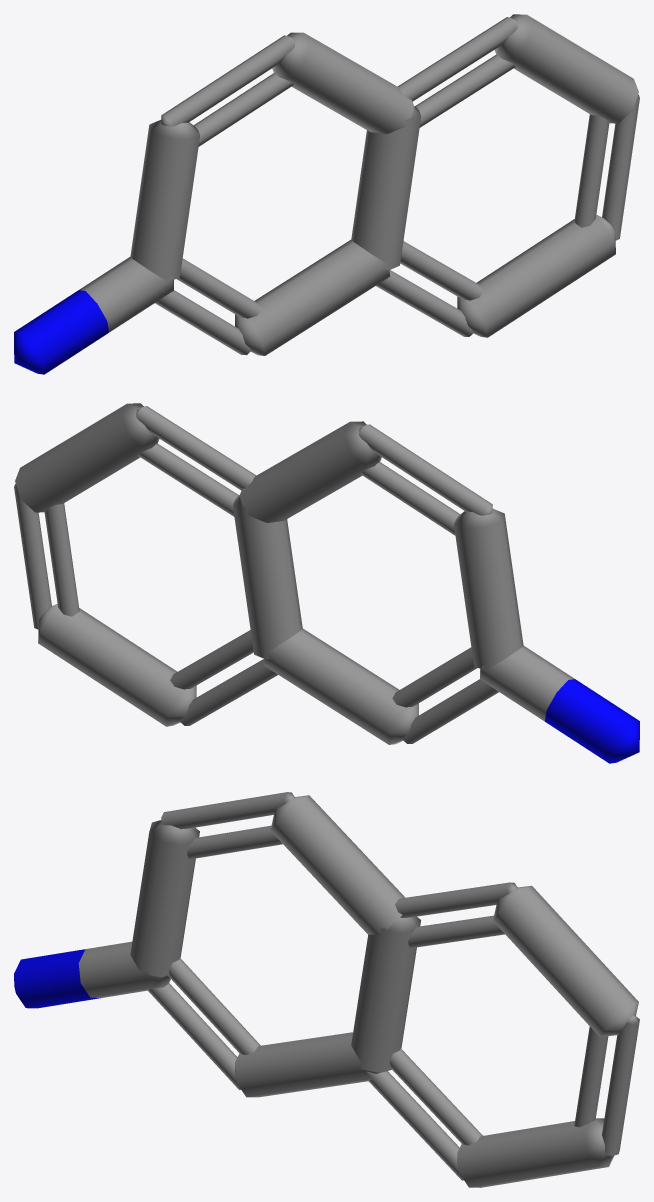
Rendered from 2naph.glb.
3 views of the same model, one above another, from view 1: azimuth 30°, elevation 25°; view 2: azimuth 150°, elevation 25°; view 3: azimuth 330°, elevation 25° (orthographic).
Visible parts, largest first — view 1: node-geom16; view 2: node-geom16; view 3: node-geom16.
Boxes of the visible parts, bbox=[...] form: node-geom16: bbox=[14, 14, 639, 374]; node-geom16: bbox=[14, 403, 639, 763]; node-geom16: bbox=[14, 792, 639, 1187].
Bounding box in the file's own units: 6.8 × 3.62 × 0.5013.
